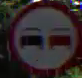No overtake: (7, 1, 81, 76)
